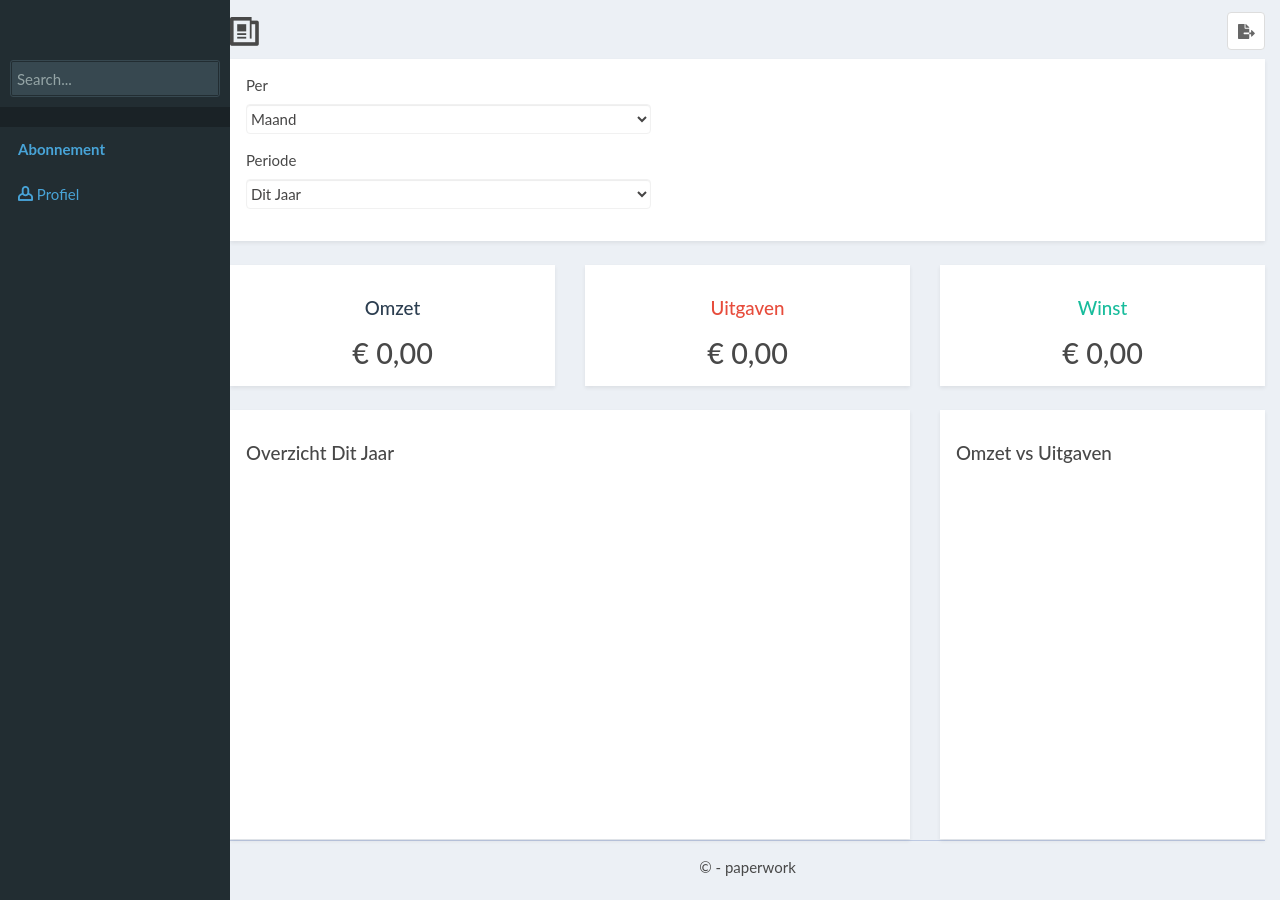
Dashboard › shows the period label that matches the selected preset
expect the heading "Overzicht Dit Jaar" is shown: met, box [246, 441, 394, 464]
Step 1. Select "Vorig Jaar" in the dropdown labelled "Periode" → (448,194), box [246, 179, 651, 209]
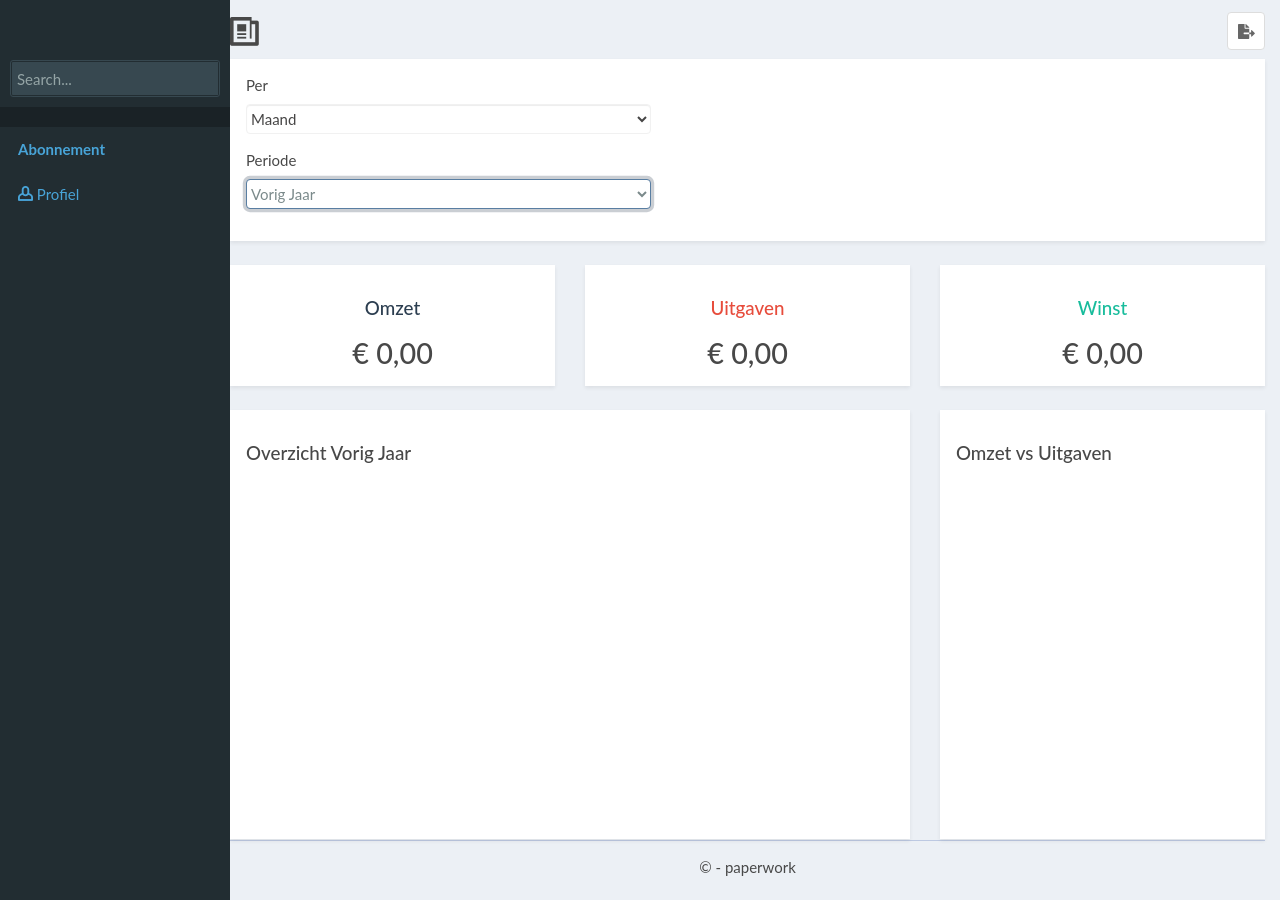
expect the heading "Overzicht Vorig Jaar" is shown: met, box [246, 441, 411, 464]
